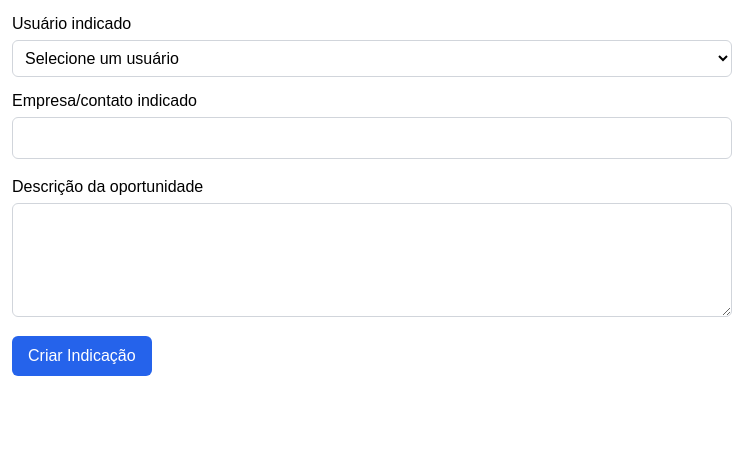
Test case: IndicationForm › mostra erros de validação quando campos faltam
Click the button "Criar Indicação".
click(82, 356)  # box left=12, top=336, right=152, bottom=376
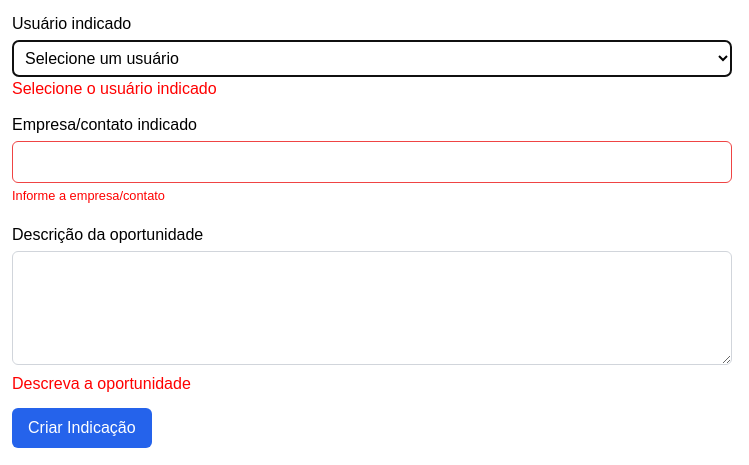
Expected: the text "Selecione o usuário indicado" is shown, left=12, top=80, right=217, bottom=97
Expected: the text "Informe a empresa/contato" is shown, left=12, top=188, right=165, bottom=203
Expected: the text "Descreva a oportunidade" is shown, left=12, top=375, right=191, bottom=392
